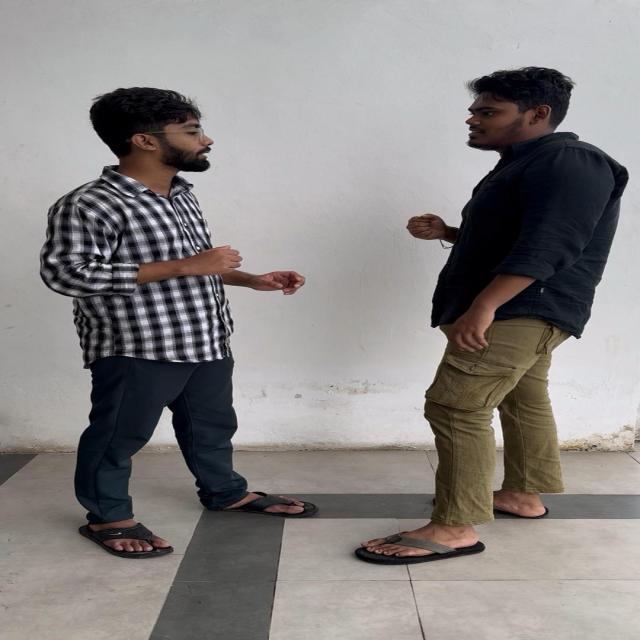fight: (19, 24, 632, 585)
